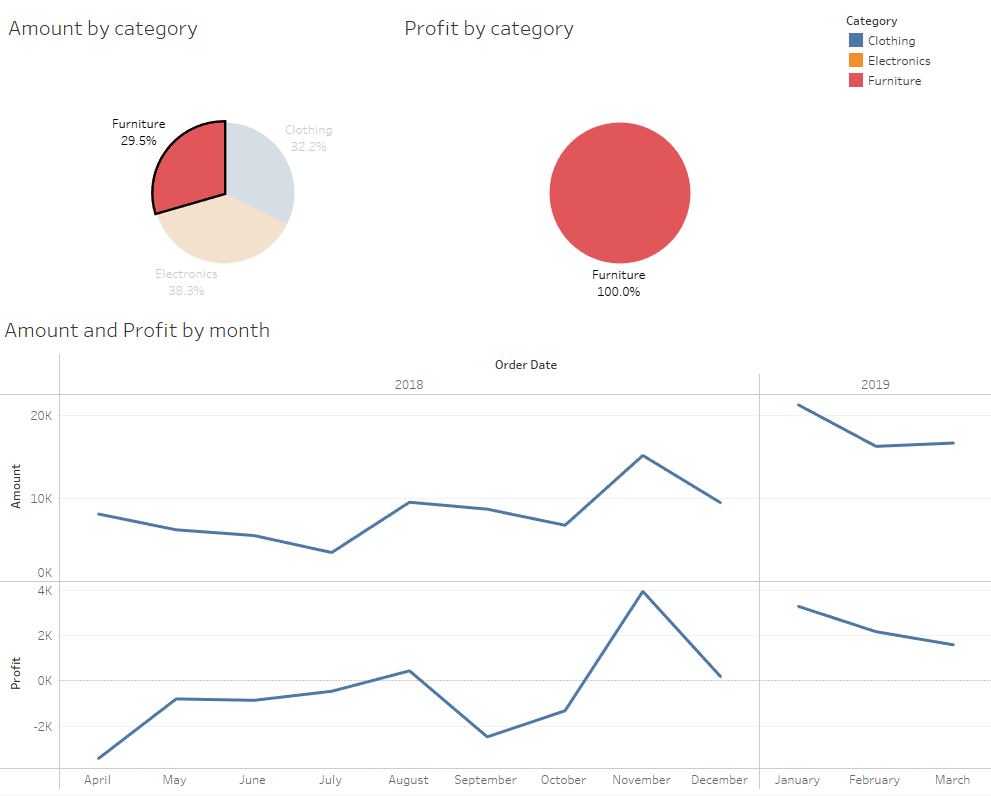

The page's visual inventory and layout, read from the dashboard file:
{"tool":"tableau","page":{"name":"Dashboard 1","canvas":[1000,800],"ordinal":0},"visuals":[{"type":"worksheet","title":"Sheet 1","mark":"Pie","box":[6,14,440,325]},{"type":"worksheet","title":"Sheet 2","mark":"Pie","box":[402,14,440,325]},{"type":"legend","title":"Sheet 1","param":"[federated.0m88nqi1w2g4np1cgb4lk1v1m7ds].[none:Category:nk]","box":[848,17,140,78]},{"type":"worksheet","title":"Sheet 3","mark":"Automatic","rows":["Amount","Profit"],"cols":["Order Date","Order Date"],"box":[2,316,993,479]}]}

Visuals, with their boxes in screenshot pixels (x1, y1, x2, y2), scaled from the page's 1000x800 canvas onto the 991x796 screenshot:
"Sheet 1" worksheet (Pie marks): (6, 14, 442, 337)
"Sheet 2" worksheet (Pie marks): (398, 14, 834, 337)
"Sheet 1" legend: (840, 17, 979, 95)
"Sheet 3" worksheet: (2, 314, 986, 791)
